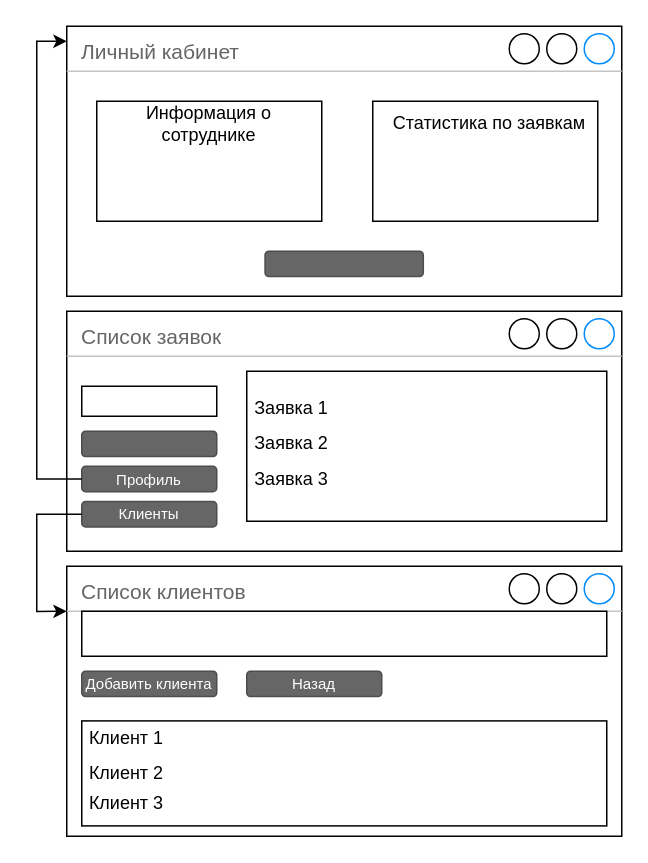
The diagram is 648 pixels wide and 863 high, and some of its shapes have lost their labels. Here are the shapes that lost their labels. From the top down, the centre of each, then its label:
(x=343, y=263): Закрыть
(x=148, y=400): Навигация
(x=148, y=443): Создать заявку
(x=343, y=633): Поиск и сортировка
